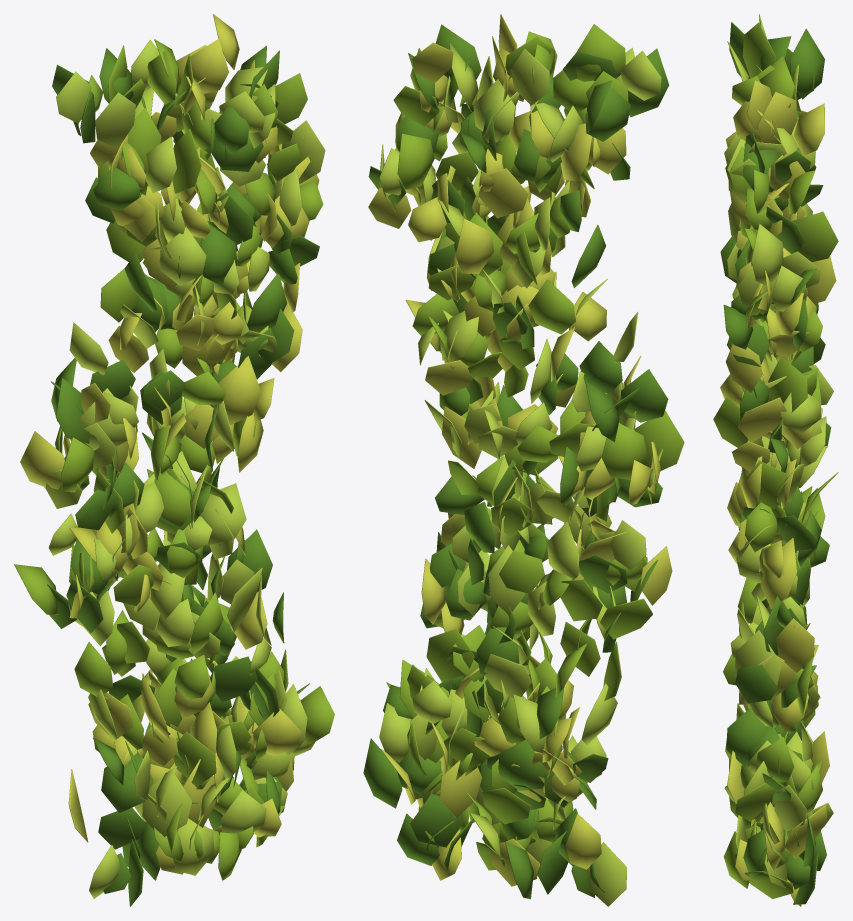
File: IvyColumn.fbx
The picture shows the model from 3 angles, left to right: view 1: azimuth 30°, elevation 25°; view 2: azimuth 150°, elevation 25°; view 3: azimuth 270°, elevation 25°; orthographic projection. The views are drawn at different scales.
Parts seen in each view (by area): view 1: Dense climbing ivy; view 2: Dense climbing ivy; view 3: Dense climbing ivy.
Boxes of the visible parts, x1,y1,x2,y2 form: Dense climbing ivy: (14, 14, 334, 906); Dense climbing ivy: (363, 14, 684, 906); Dense climbing ivy: (713, 14, 838, 906).
Size of the model in its own units: 1.26 by 3.63 by 0.4978.
